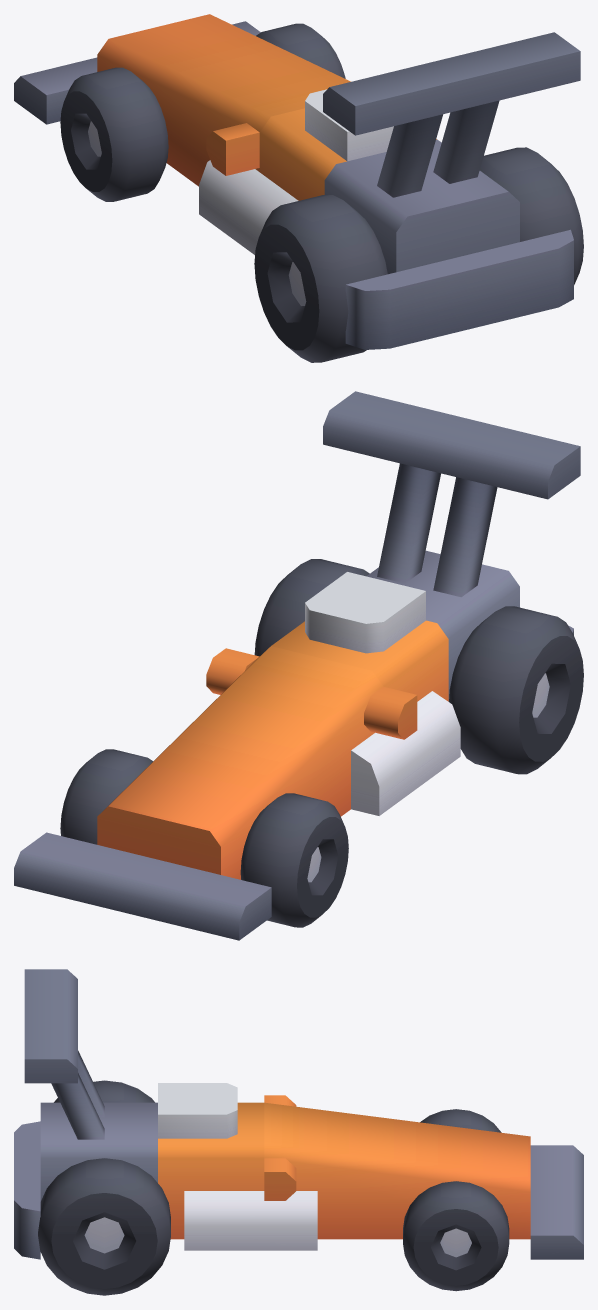
Rendered from dragster.glb.
The picture shows the model from 3 angles, top to bottom: view 1: azimuth 30°, elevation 25°; view 2: azimuth 150°, elevation 25°; view 3: azimuth 270°, elevation 25°; orthographic projection. The views are drawn at different scales.
Visible parts, largest first — view 1: vehicle-drag-racer, wheel-bl, wheel-fl, wheel-br, wheel-fr; view 2: vehicle-drag-racer, wheel-bl, wheel-fl, wheel-fr, wheel-br; view 3: vehicle-drag-racer, wheel-br, wheel-fr, wheel-fl, wheel-bl.
Boxes of the visible parts, <box> form: vehicle-drag-racer: <box>14,14,580,349</box>; wheel-bl: <box>254,195,387,362</box>; wheel-fl: <box>60,67,168,201</box>; wheel-br: <box>479,147,583,284</box>; wheel-fr: <box>256,23,345,78</box>; vehicle-drag-racer: <box>14,391,580,940</box>; wheel-bl: <box>449,606,583,774</box>; wheel-fl: <box>240,793,348,927</box>; wheel-fr: <box>60,749,152,844</box>; wheel-br: <box>254,559,369,656</box>; vehicle-drag-racer: <box>14,969,583,1259</box>; wheel-br: <box>38,1158,170,1295</box>; wheel-fr: <box>403,1181,509,1291</box>; wheel-fl: <box>420,1109,501,1132</box>; wheel-bl: <box>54,1080,154,1102</box>.
Size of the model in its own units: 0.5875 by 0.6063 by 1.34.
Materials: 1 (1 with a texture image).
